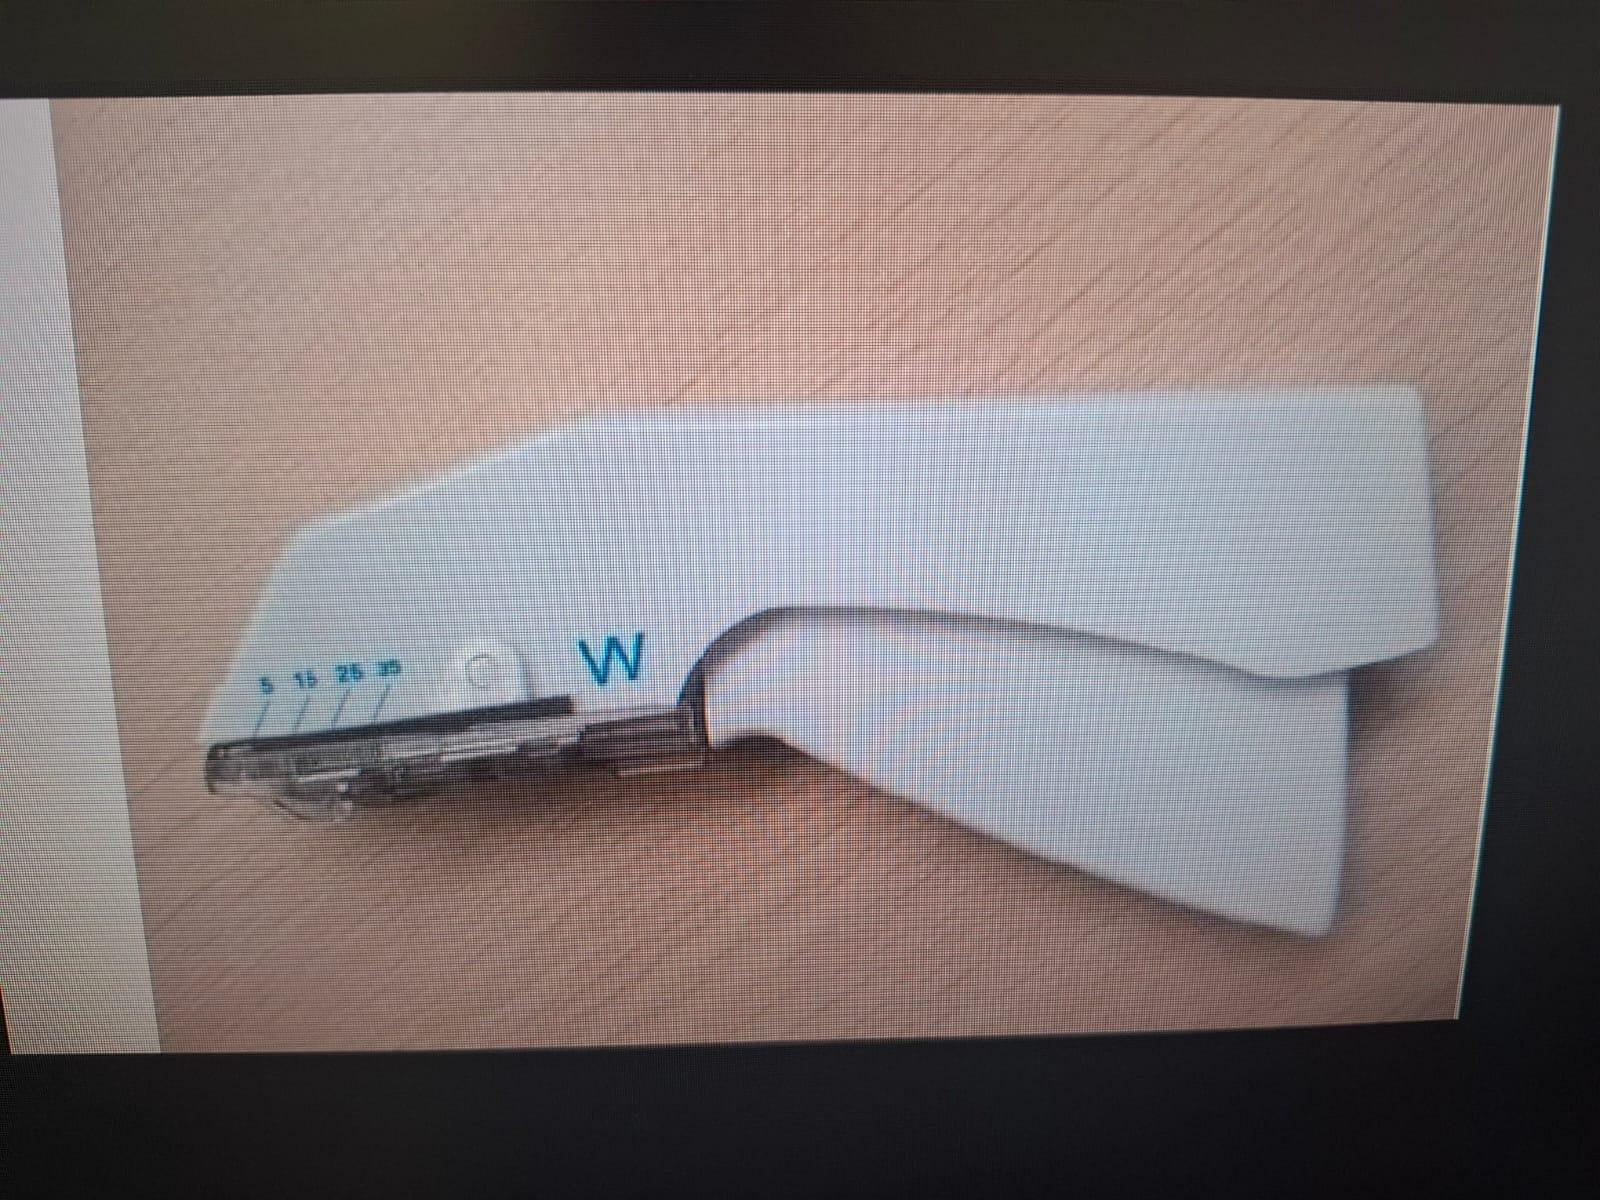Skin Stapler: (163, 388, 1456, 958)
